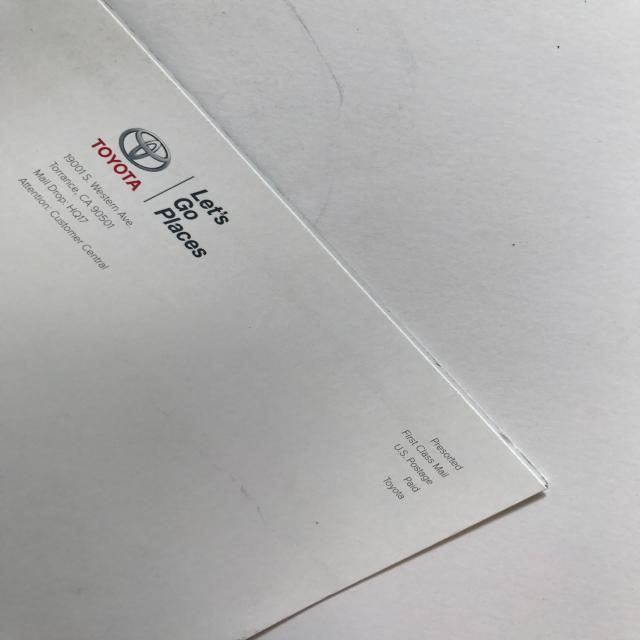paper: (1, 0, 552, 639)
